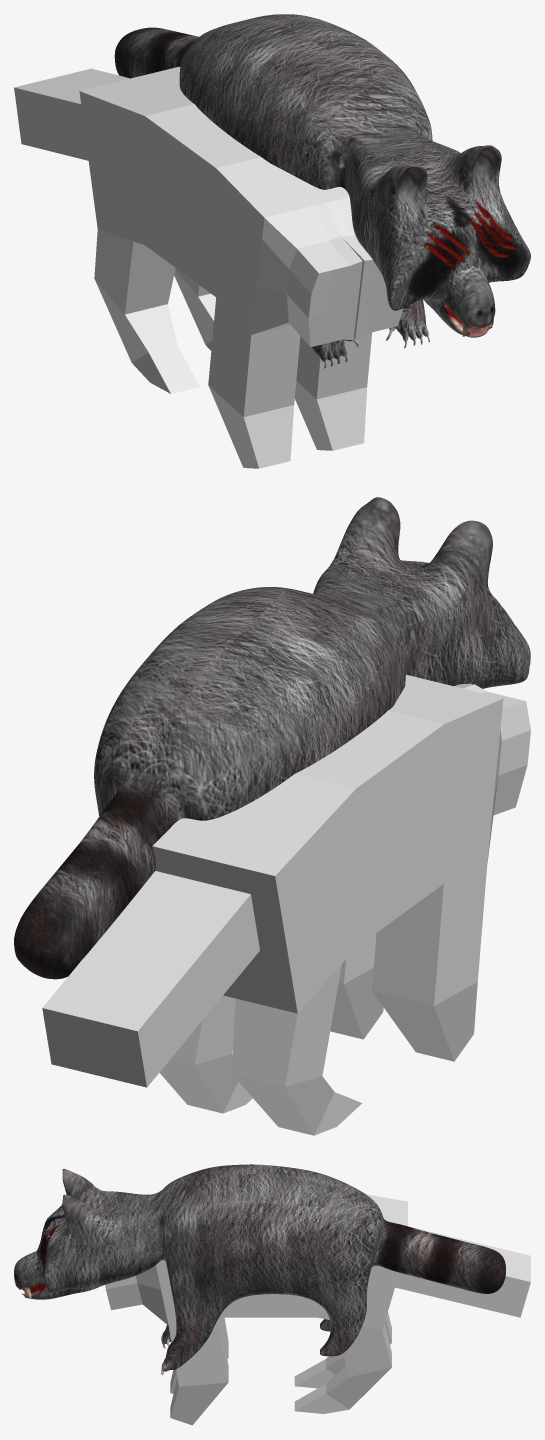
File: Raccoon.fbx
3 renders of one model, top to bottom at view 1: azimuth 30°, elevation 25°; view 2: azimuth 150°, elevation 25°; view 3: azimuth 270°, elevation 25°, orthographic. The views are drawn at different scales.
Visible parts, largest first — view 1: Cube.001, Cube; view 2: Cube.001, Cube; view 3: Cube, Cube.001.
Boxes of the visible parts, x1=… form: Cube.001: x1=14, y1=66, x2=403, y2=468; Cube: x1=114, y1=14, x2=530, y2=368; Cube.001: x1=42, y1=674, x2=530, y2=1135; Cube: x1=14, y1=497, x2=530, y2=979; Cube: x1=14, y1=1164, x2=505, y2=1375; Cube.001: x1=105, y1=1194, x2=530, y2=1425.
Bounding box in the file's own units: 330 × 567 × 1042.
1 material, 1 textured.
